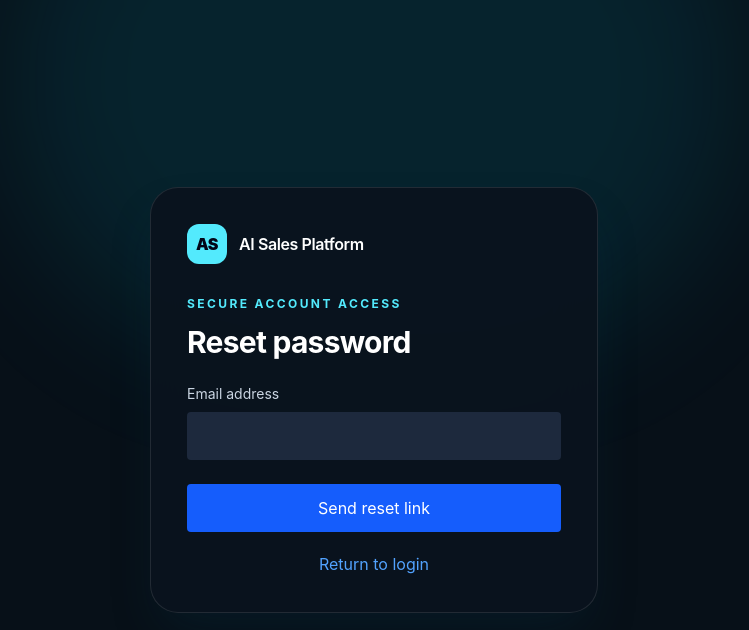
Test case: account lifecycle pages › requests a password reset without revealing account existence
The image size is (749, 630).
Type "sales@example.com" into the field labelled "Email address" at point(374, 436), box x1=187 y1=412 x2=561 y2=460
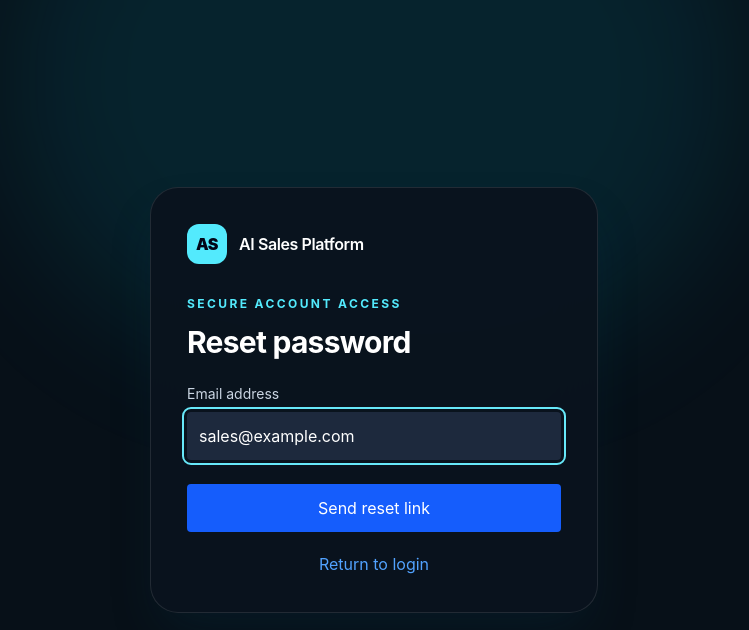
Click the button "Send reset link" at point(374, 508), box x1=187 y1=484 x2=561 y2=532
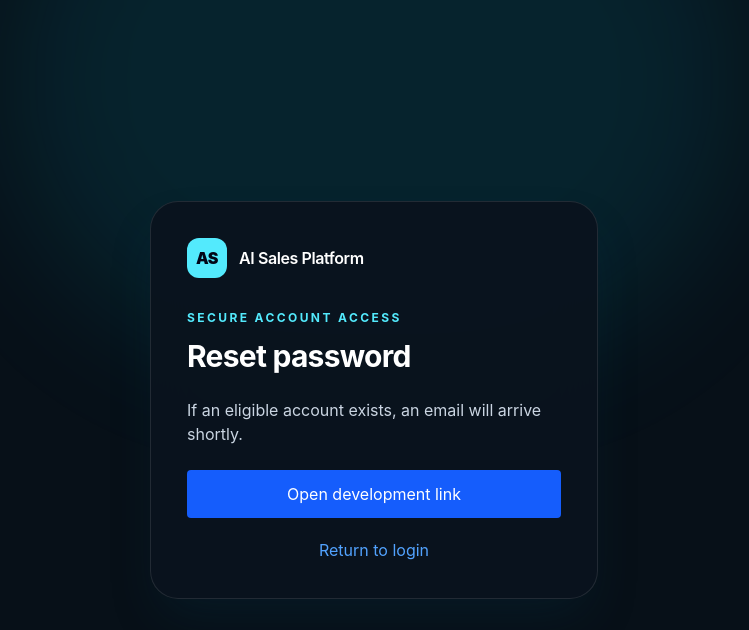
Expected: the message shows "eligible account", x1=187 y1=400 x2=541 y2=444
